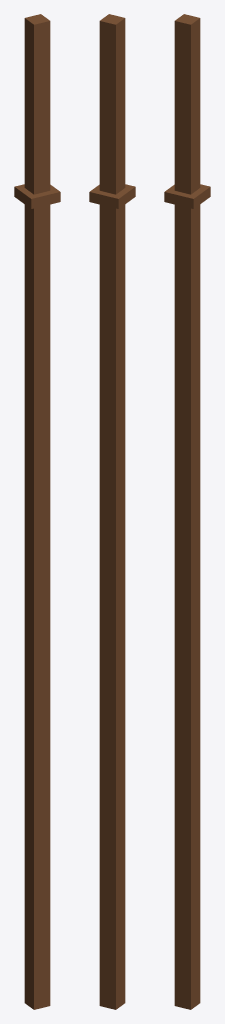
The model's file is MinecartMayhemPost.obj.
3 views of the same model, side by side, from view 1: azimuth 30°, elevation 25°; view 2: azimuth 150°, elevation 25°; view 3: azimuth 330°, elevation 25° (orthographic).
Parts seen in each view (by area): view 1: Timber; view 2: Timber; view 3: Timber.
Boxes of the visible parts, bbox=[...] form: Timber: bbox=[14, 14, 60, 1009]; Timber: bbox=[89, 14, 135, 1009]; Timber: bbox=[164, 14, 210, 1009].
Bounding box in the file's own units: 0.9 × 29 × 0.9.
